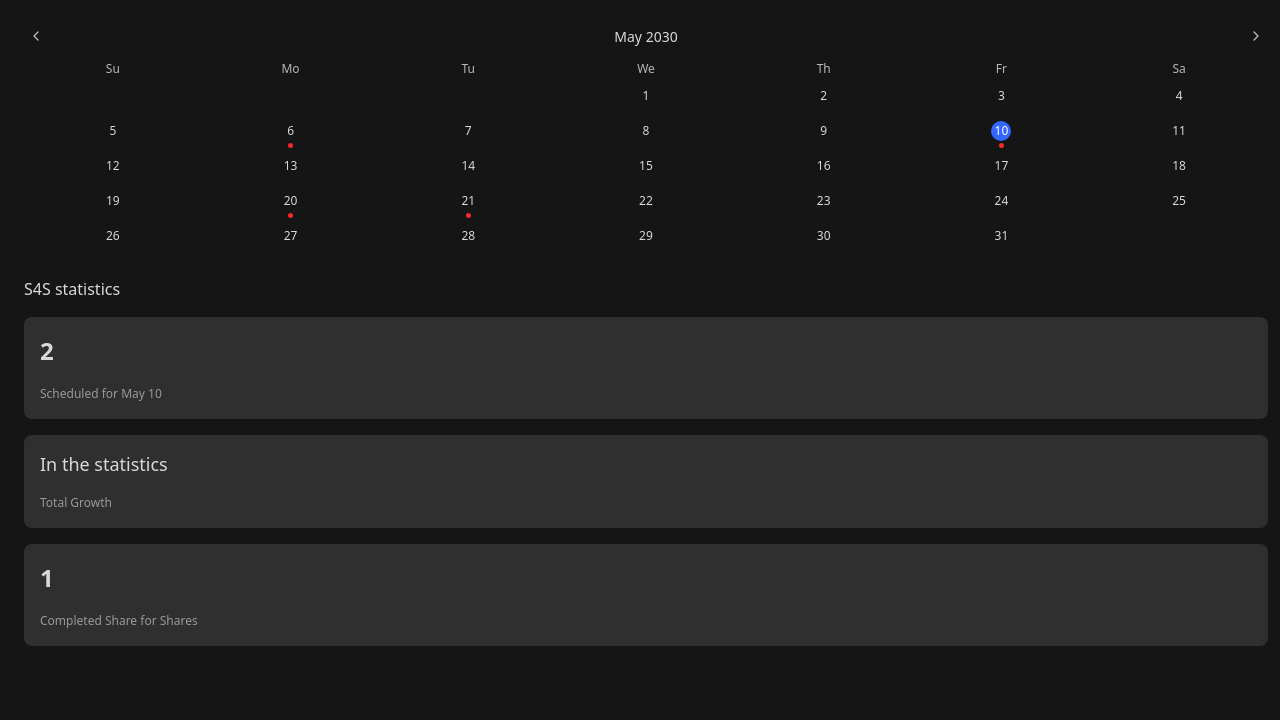
S4SSchedule › marks the days with S4S for this creator only, in UTC, and only those days and today pick
Expected: the button named "May 19, 2030" is disabled, [103, 191, 123, 211]
Expected: the button named "May 10, 2030" is enabled, [991, 121, 1011, 141]
Click the button named "May 20, 2030" at x=291, y=201, box [281, 191, 301, 211]
(page scrolled)
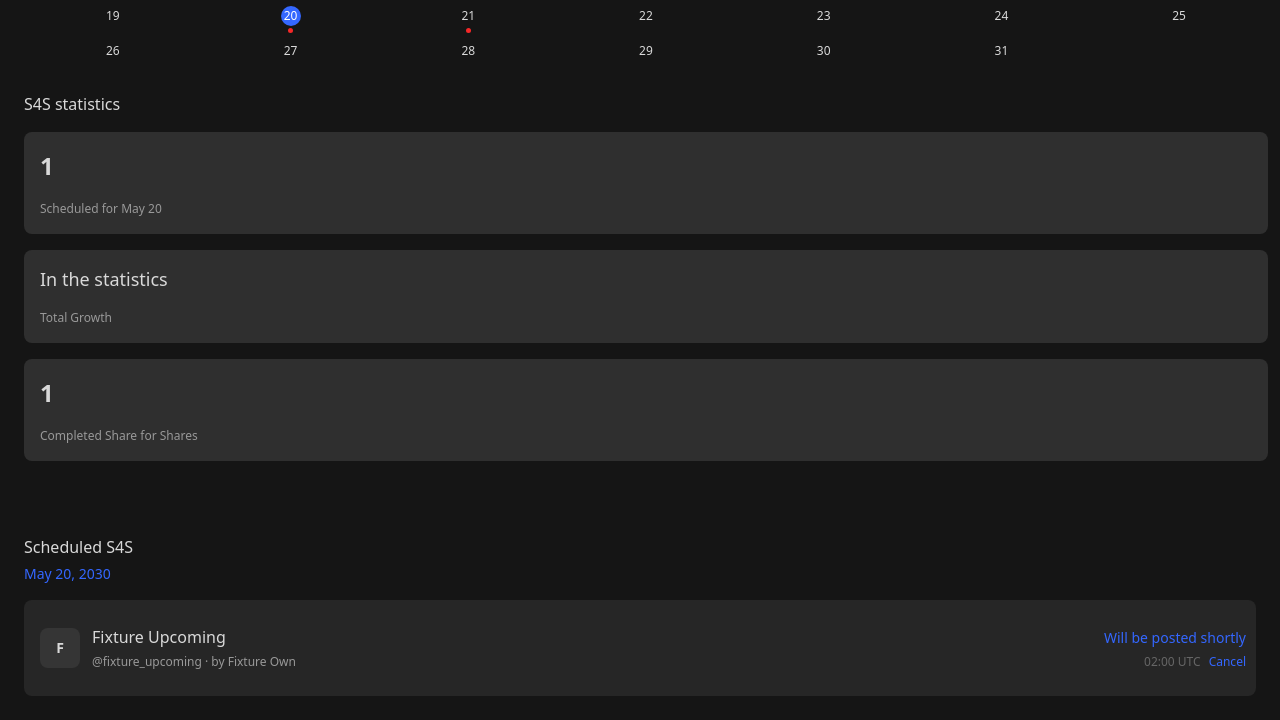
Now the text "May 20, 2030" is shown, box [24, 564, 111, 583]
Now the element named "S4S slot with Fixture Upcoming" shows "02:00 UTC", box [1144, 653, 1201, 670]
Now the text "Will be posted shortly" is shown, box [1104, 626, 1246, 648]
